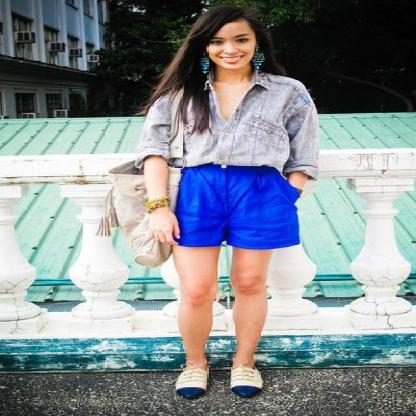bag: (98, 159, 180, 267)
shirt: (128, 67, 321, 176)
shoe: (176, 366, 262, 399)
skirt: (172, 161, 302, 249)
